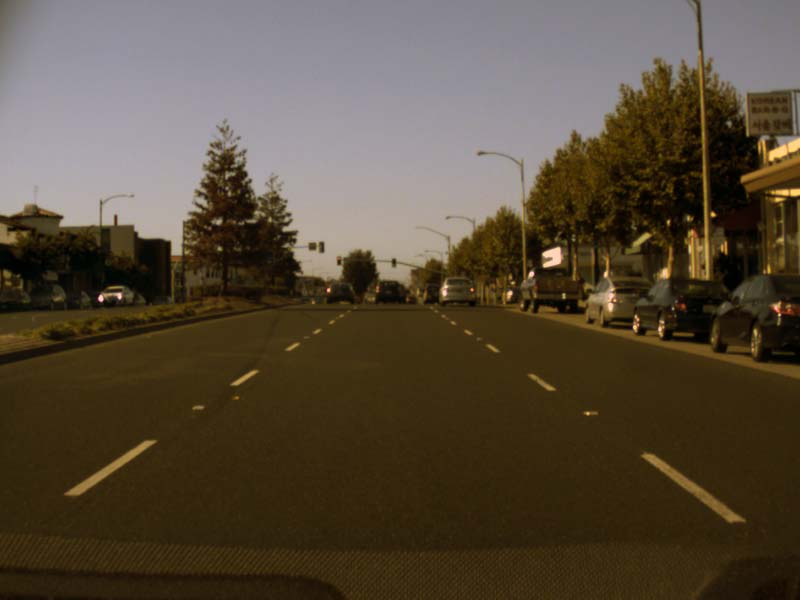Green: (391, 257, 396, 267)
Red: (336, 256, 341, 265)
